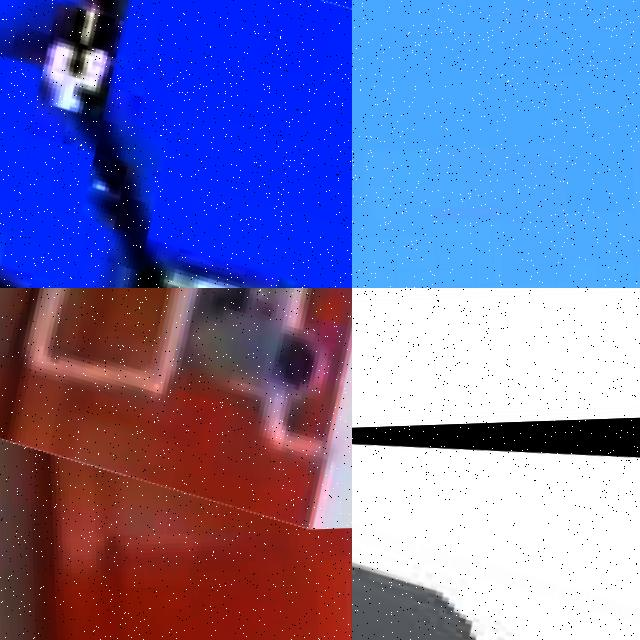0: (0, 0, 352, 288)
drone: (0, 288, 352, 540), (352, 412, 640, 640)
